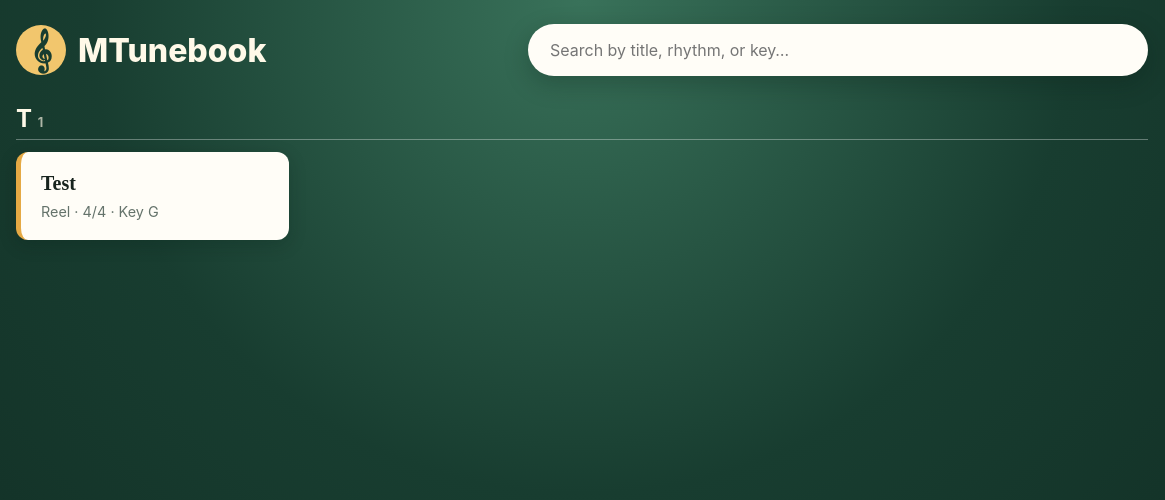
Test: App › ignores a late response after navigating away
Click the button "Test reel · 4/4 · key G".
click(58, 183)  # box [16,152,288,240]
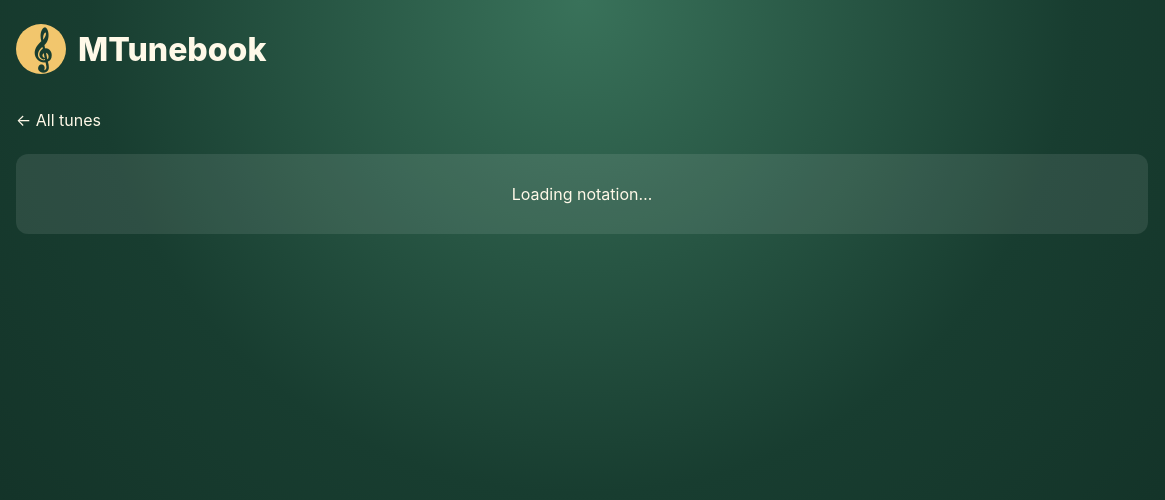
Click the button "← All tunes".
click(58, 120)  # box [16,102,101,138]
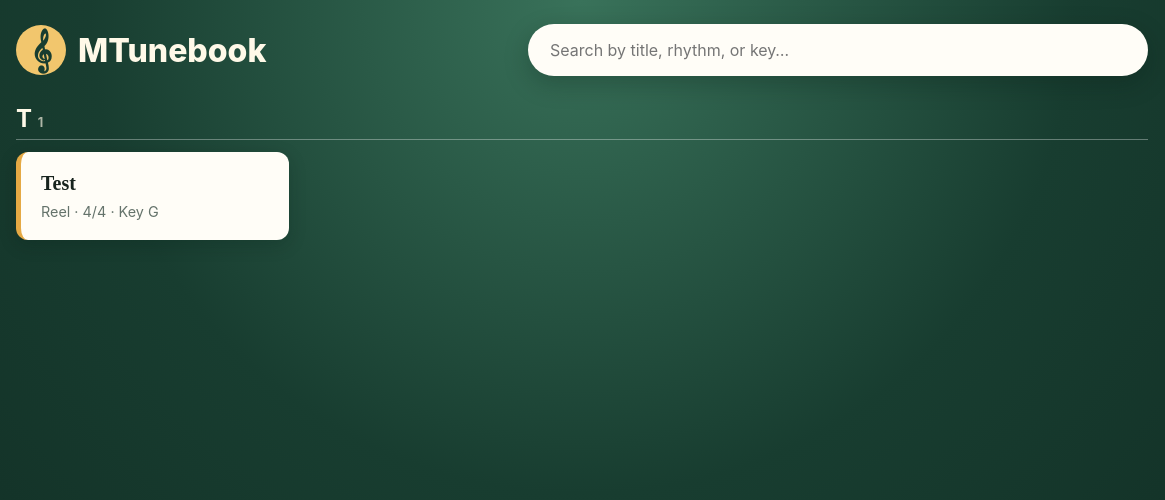
Expected: the search field is shown, [528,24,1148,76]
